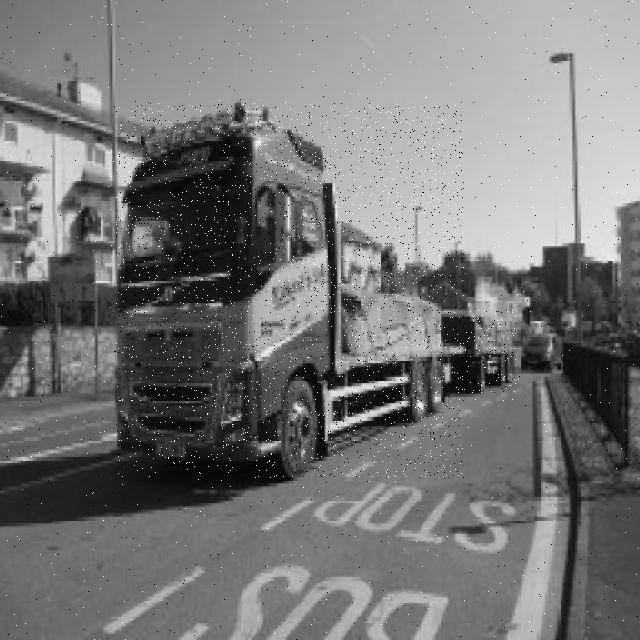Box Truck: (116, 103, 464, 478), (442, 310, 516, 393)
